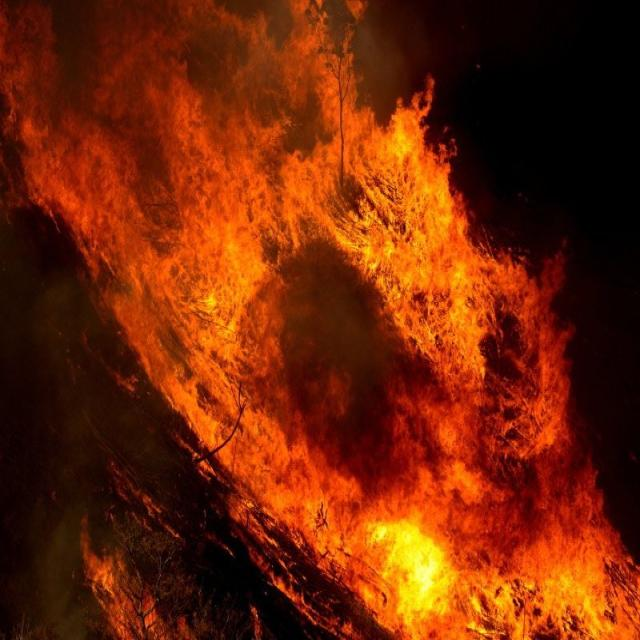fire: (123, 97, 284, 436), (378, 498, 640, 638), (351, 115, 474, 365), (255, 444, 358, 562)
